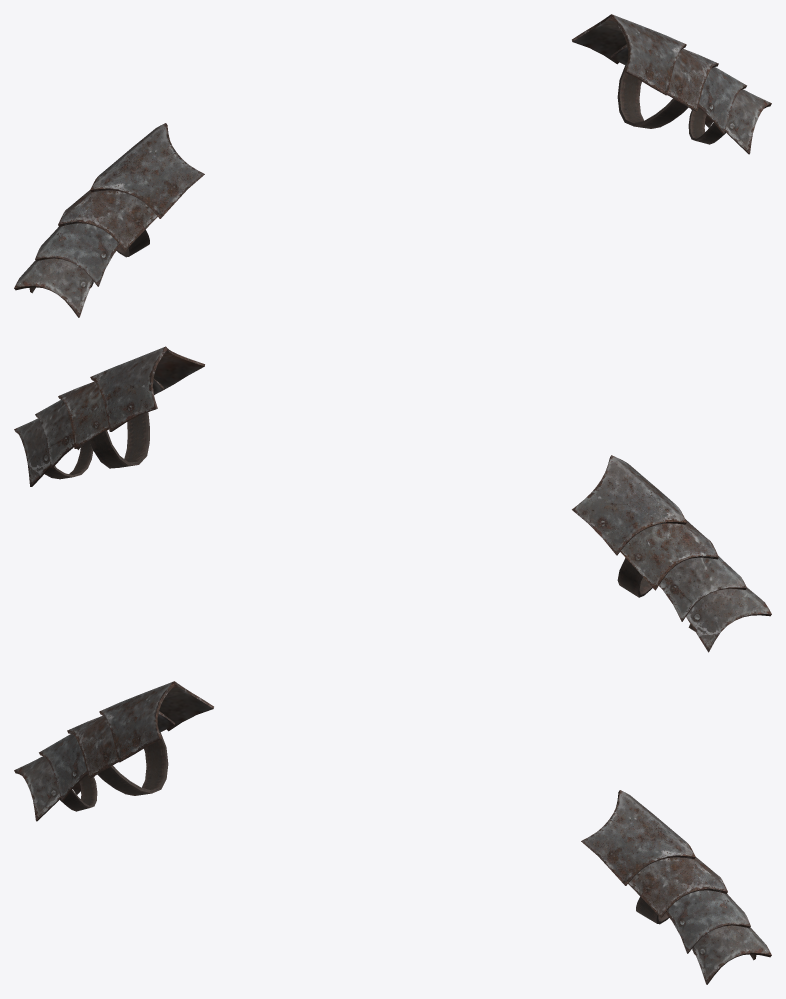
File: sk_gb_uruk_bracer_heavy_e.fbx
The picture shows the model from 3 angles, top to bottom: view 1: azimuth 30°, elevation 25°; view 2: azimuth 150°, elevation 25°; view 3: azimuth 330°, elevation 25°; orthographic projection.
Visible parts, largest first — view 1: sk_gb_uruk_bracer_heavy_e; view 2: sk_gb_uruk_bracer_heavy_e; view 3: sk_gb_uruk_bracer_heavy_e.
Boxes of the visible parts, x1,y1,x2,y2 form: sk_gb_uruk_bracer_heavy_e: [14, 14, 771, 317]; sk_gb_uruk_bracer_heavy_e: [14, 346, 771, 652]; sk_gb_uruk_bracer_heavy_e: [14, 681, 771, 984].
Bounding box in the file's own units: 1.45 × 0.1743 × 0.2845.
Materials: 1 (1 with a texture image).
